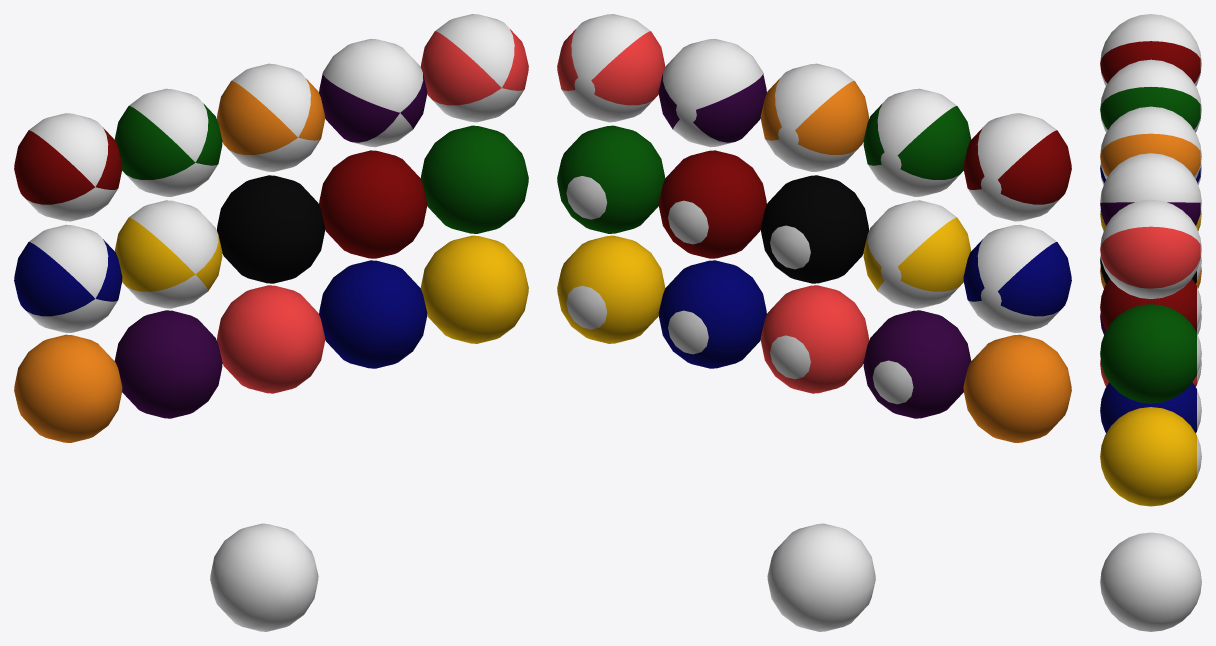
The model's file is 8_Balls.fbx.
3 renders of one model, left to right at view 1: azimuth 30°, elevation 25°; view 2: azimuth 150°, elevation 25°; view 3: azimuth 270°, elevation 25°, orthographic. The views are drawn at different scales.
Visible parts, largest first — view 1: Pool_Ball_17; view 2: Pool_Ball_17; view 3: Pool_Ball_17.
Part boxes in pixels (x1,y1,x2,y2): Pool_Ball_17: (14,14,528,631); Pool_Ball_17: (557,14,1071,631); Pool_Ball_17: (1100,14,1201,631).
Bounding box in the file's own units: 0.0377 × 0.0399 × 0.00709.
